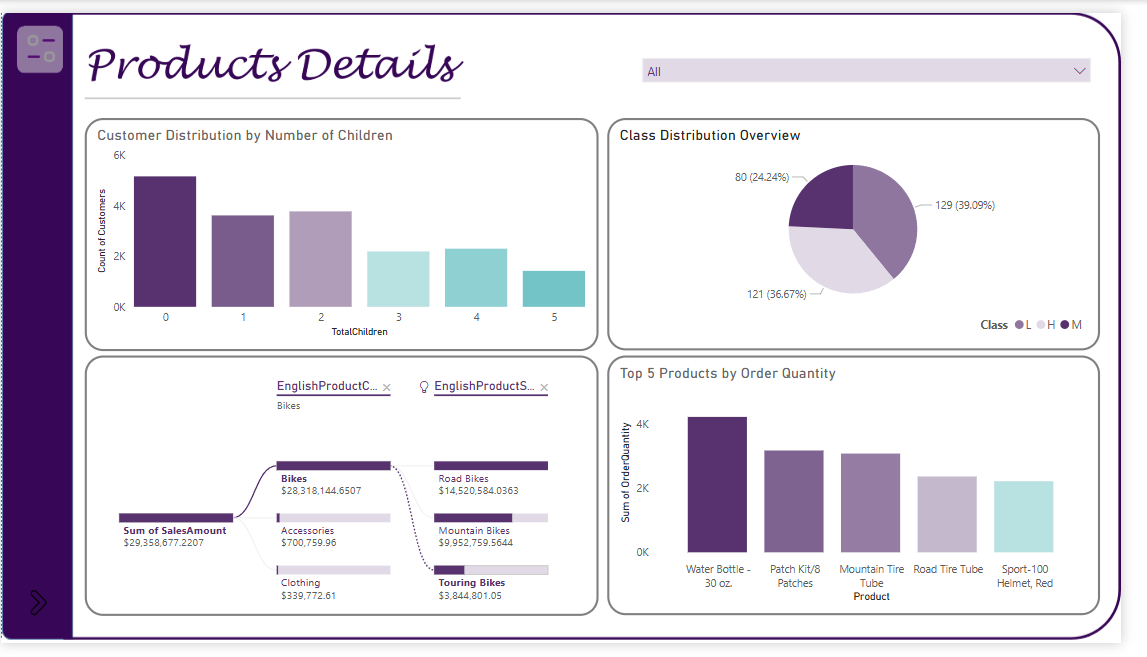

What the dashboard file says about the page in this screenshot:
{"tool":"powerbi","page":{"name":"Product","canvas":[1280,720],"ordinal":5},"visuals":[{"type":"actionButton","box":[18.6,14.3,54.3,51.4],"z":0},{"type":"actionButton","box":[17.8,639.5,53.5,50.8],"z":1000},{"type":"actionButton","box":[17.8,558.5,53.5,50.8],"z":2000},{"type":"shape","box":[96.1,89.2,429.5,17.8],"z":3000},{"type":"image","box":[86.4,11,452.8,96.1],"z":4000},{"type":"slicer","fields":{"Values":["DimProduct.Color"]},"box":[723.2,41.2,532.4,60.4],"z":5000},{"type":"pieChart","title":"Class Distribution Overview","fields":{"Category":["DimProduct.Class"],"Y":["CountNonNull(DimProduct.Class)"]},"box":[692.9,120,562.9,265.7],"z":6000},{"type":"clusteredColumnChart","title":"Top 5 Products by Order Quantity","fields":{"Category":["DimProduct.EnglishProductName"],"Y":["Sum(FactInternetSales.OrderQuantity)"]},"box":[692.9,391.4,562.9,297.1],"z":7000},{"type":"decompositionTreeVisual","fields":{"Analyze":["Sum(FactInternetSales.SalesAmount)"],"ExplainBy":["DimProductCategory.EnglishProductCategoryName","DimProductSubcategory.EnglishProductSubcategoryName"]},"box":[96.1,391.1,587.3,297.8],"z":8000},{"type":"columnChart","title":"Customer Distribution by Number of Children","fields":{"Category":["DimCustomer.TotalChildren"],"Y":["CountNonNull(DimCustomer.CustomerKey)"]},"box":[96.1,119.4,587.3,266.2],"z":9000},{"type":"image","box":[19.3,10.9,51.9,57.9],"z":10000},{"type":"image","box":[1.2,651.5,80.8,44.6],"z":11000}]}

Visuals, with their boxes in screenshot pixels (x1, y1, x2, y2), scaled from the page's 1280x720 canvas onto the 1147x657 screenshot:
actionButton: (17, 13, 65, 60)
actionButton: (16, 584, 64, 630)
actionButton: (16, 510, 64, 556)
shape: (86, 81, 471, 98)
image: (77, 10, 483, 98)
slicer - DimProduct.Color: (648, 38, 1125, 93)
"Class Distribution Overview" pieChart: (621, 110, 1125, 352)
"Top 5 Products by Order Quantity" clusteredColumnChart: (621, 357, 1125, 628)
decompositionTreeVisual - Sum(FactInternetSales.SalesAmount) x DimProductCategory.EnglishProductCategoryName: (86, 357, 612, 629)
"Customer Distribution by Number of Children" columnChart: (86, 109, 612, 352)
image: (17, 10, 64, 63)
image: (1, 594, 73, 635)
